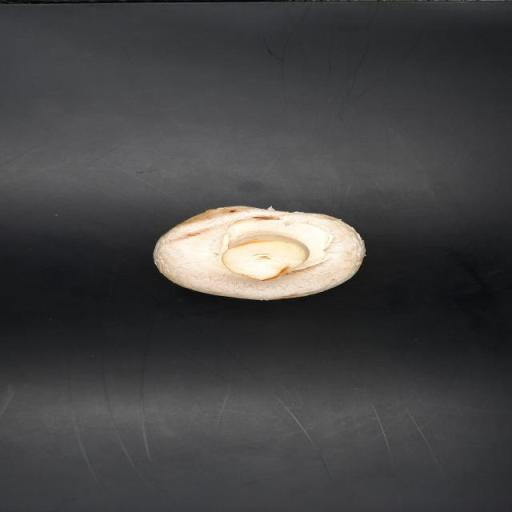Button Mushroom: (152, 196, 366, 311)
